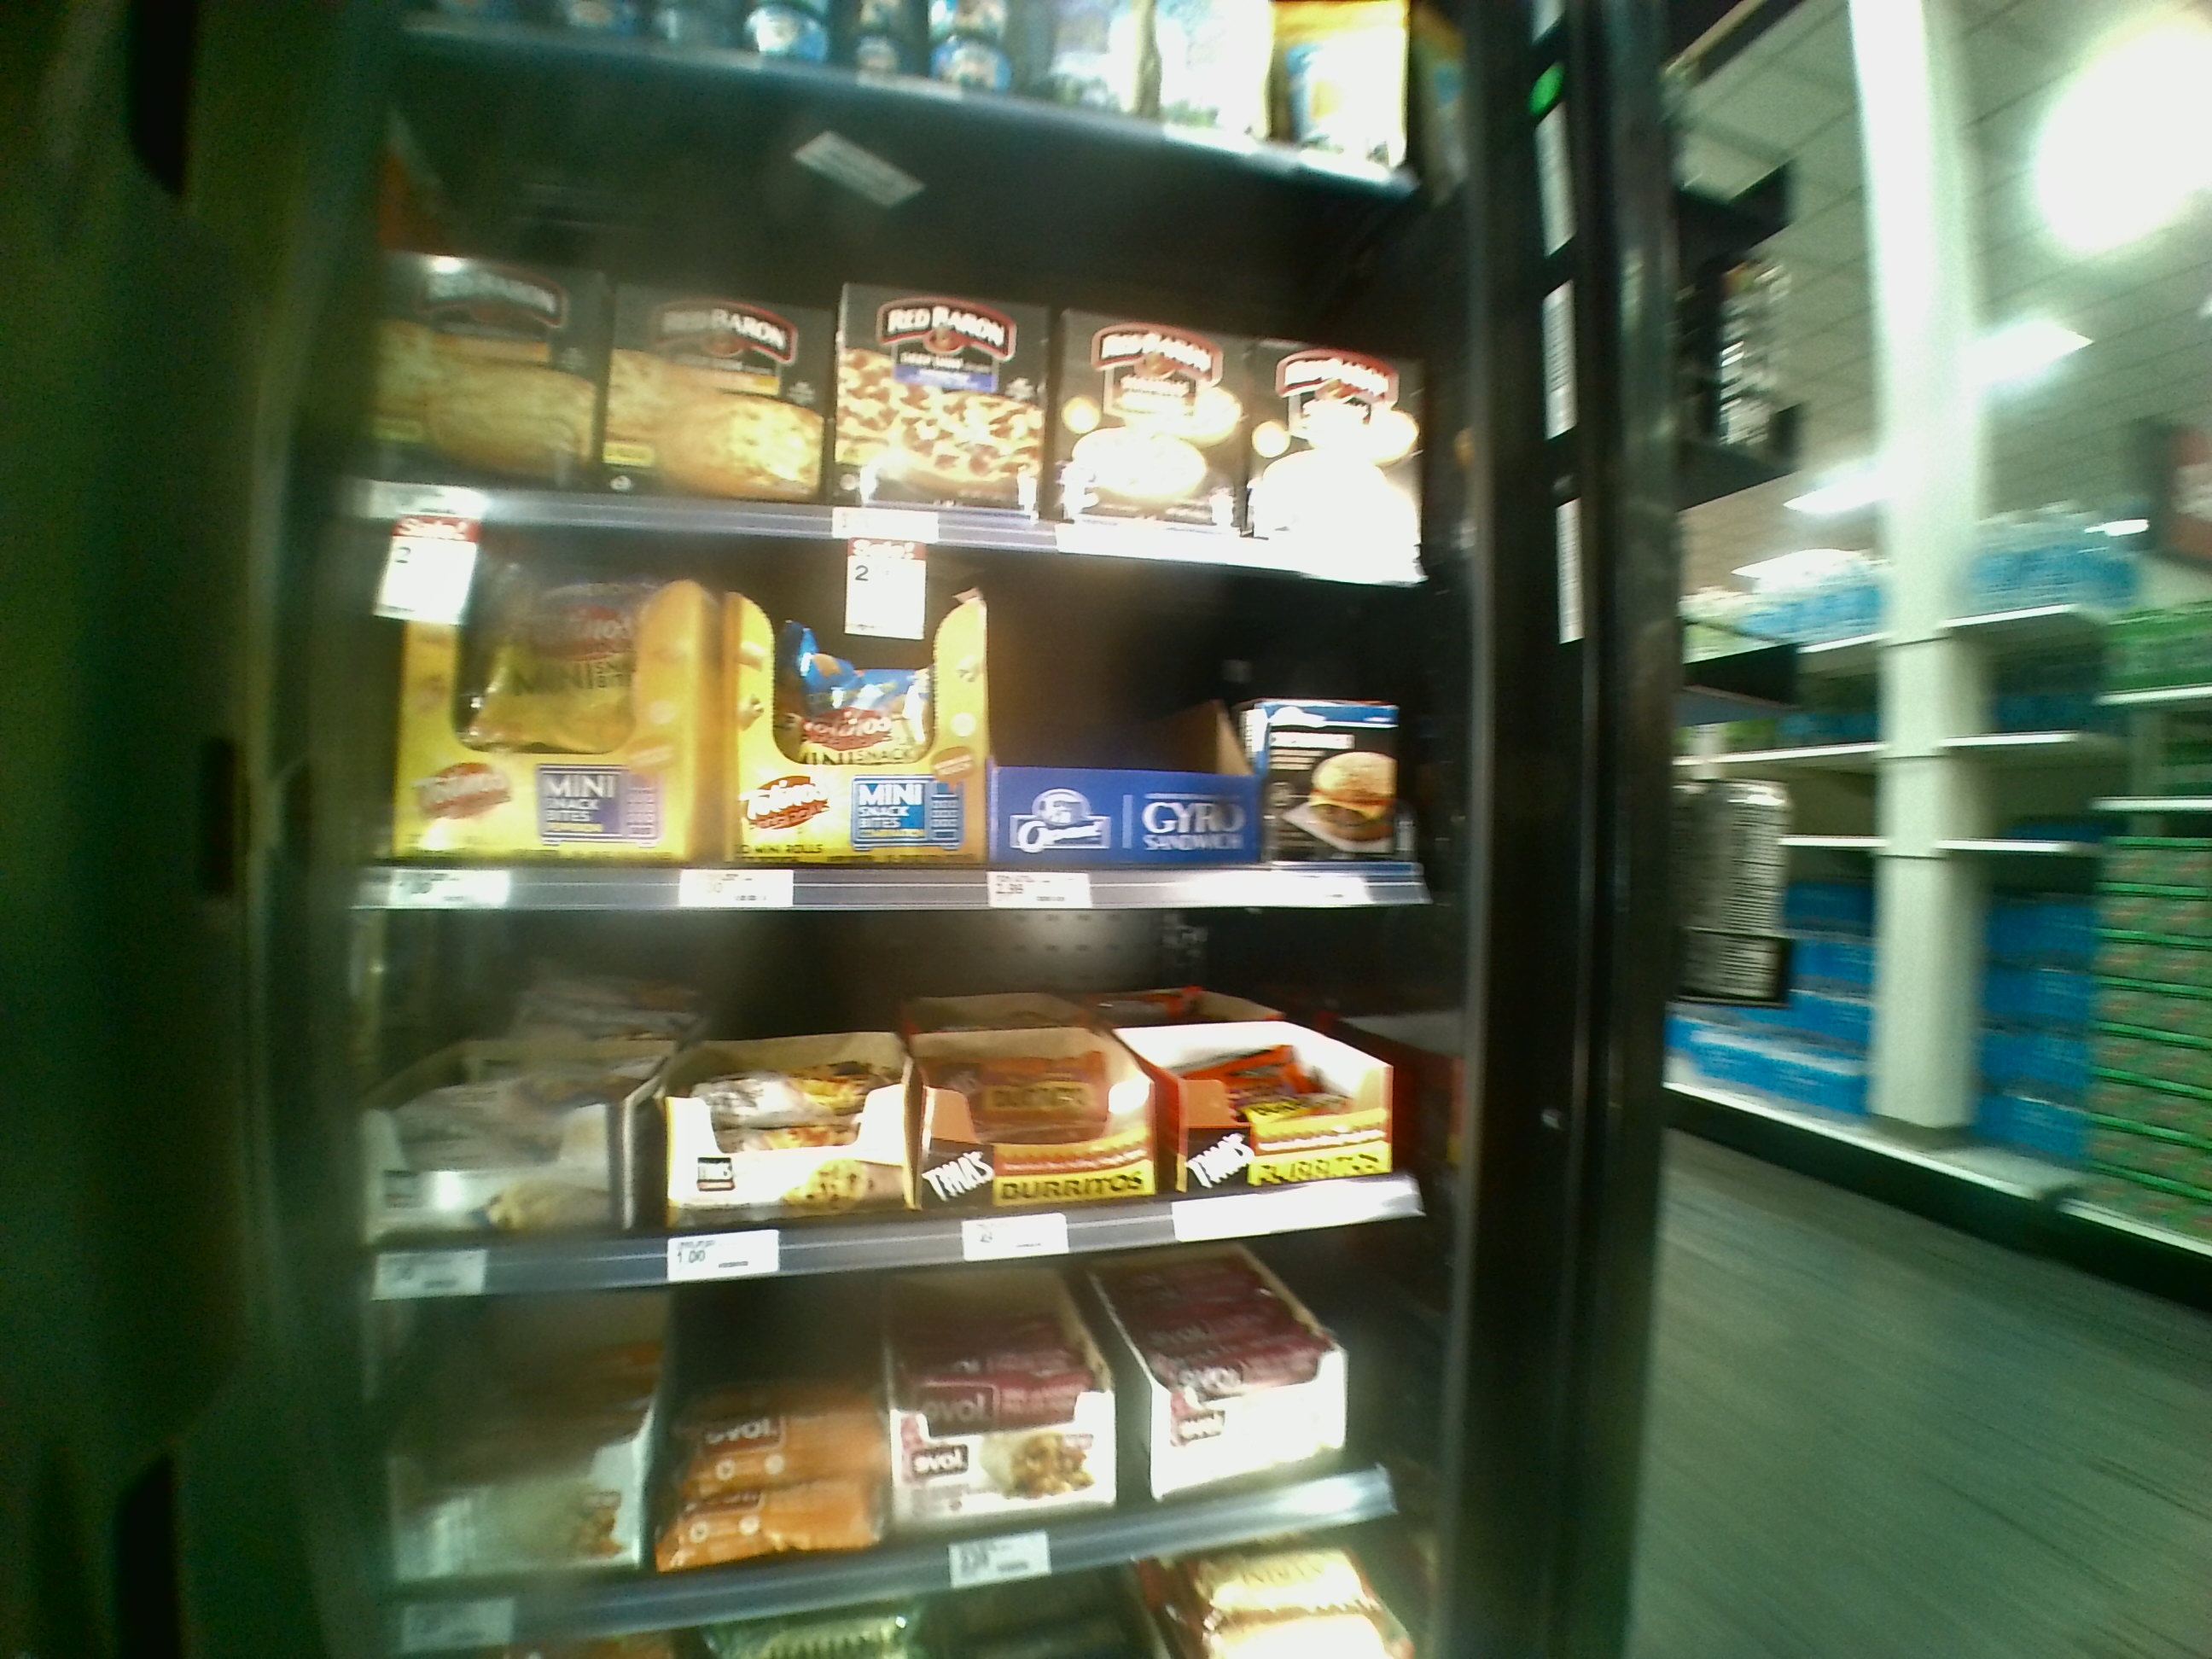shelf: (371, 178, 1440, 570), (355, 917, 1420, 1281), (354, 566, 1433, 911), (366, 1290, 1423, 1608)
